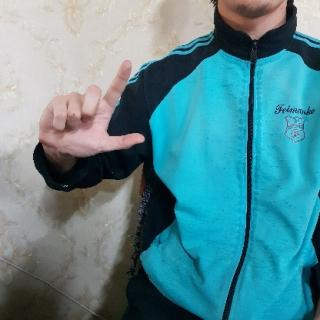LAAM: (34, 56, 150, 168)
